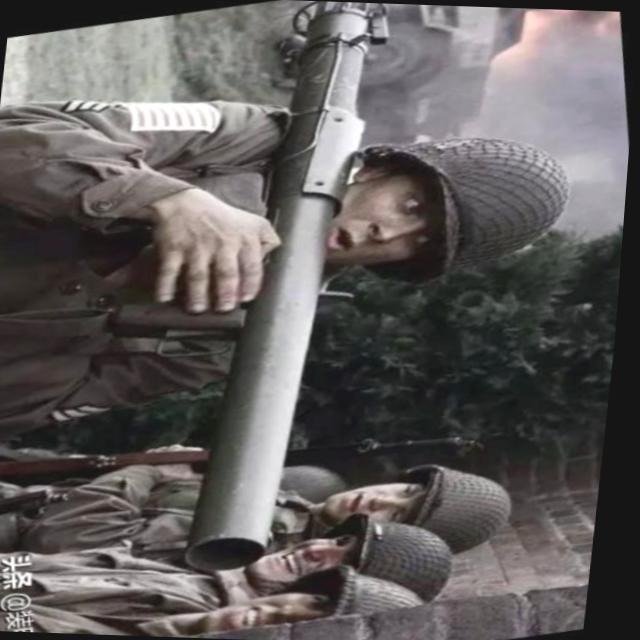rocket: (96, 0, 490, 583)
